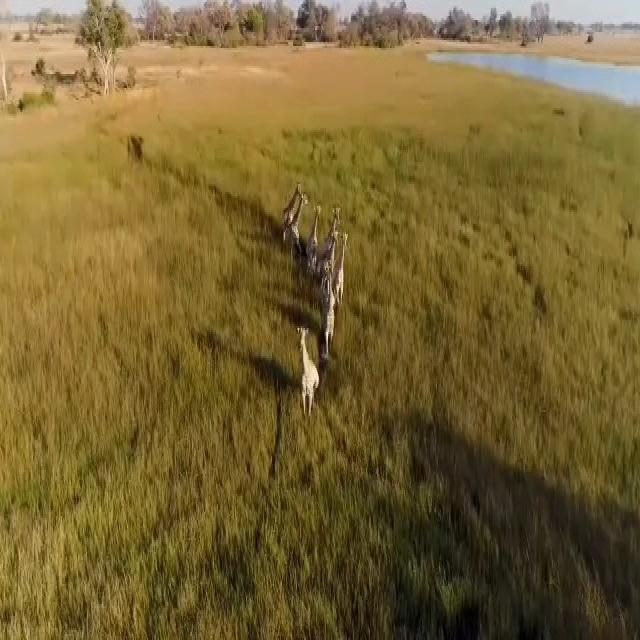Girraffe: (296, 320, 321, 423), (284, 175, 309, 256), (322, 202, 342, 278), (305, 203, 321, 268), (335, 230, 350, 295), (324, 276, 336, 355)
